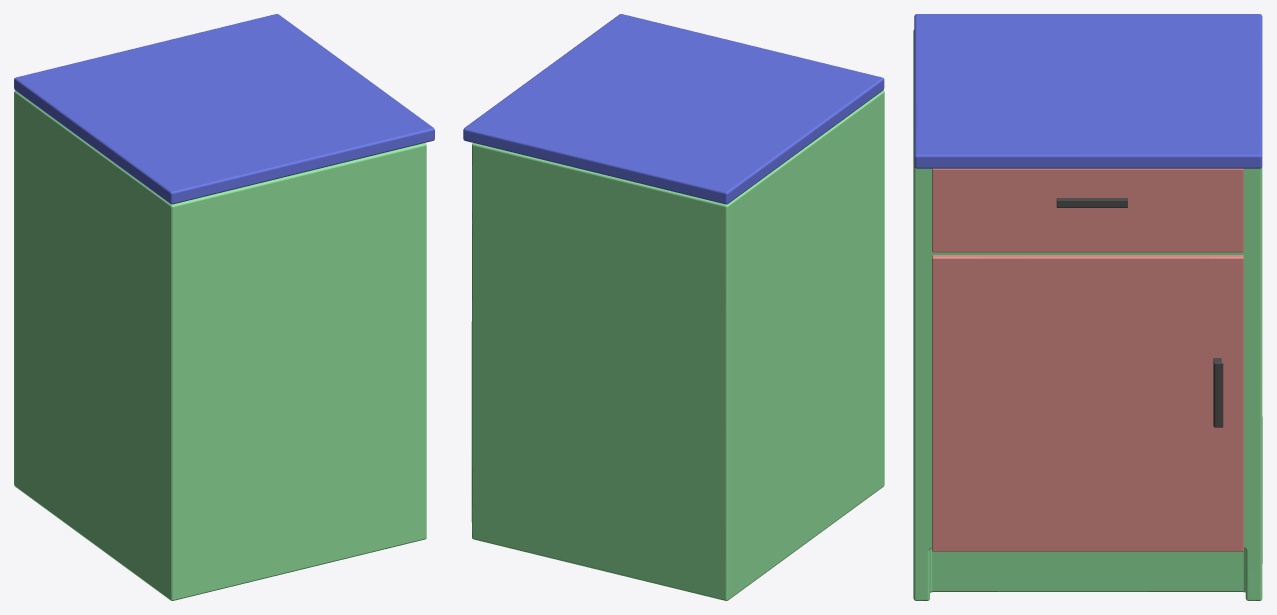
File: cupboard1.fbx
3 views of the same model, side by side, from view 1: azimuth 30°, elevation 25°; view 2: azimuth 150°, elevation 25°; view 3: azimuth 270°, elevation 25° (orthographic). The views are drawn at different scales.
Parts seen in each view (by area): view 1: left.009, left.010; view 2: left.009, left.010; view 3: left.011, left.010, left.009, Cube.015.
Part boxes in pixels (box(x1,y1,x2,y2)): left.009: box(14, 91, 426, 600); left.010: box(14, 14, 434, 204); left.009: box(471, 90, 884, 600); left.010: box(463, 14, 884, 204); left.011: box(932, 168, 1243, 551); left.010: box(914, 14, 1262, 168); left.009: box(913, 29, 1262, 600); Cube.015: box(1056, 198, 1223, 427).
Size of the model in its own units: 64.97 by 93.08 by 65.27.
